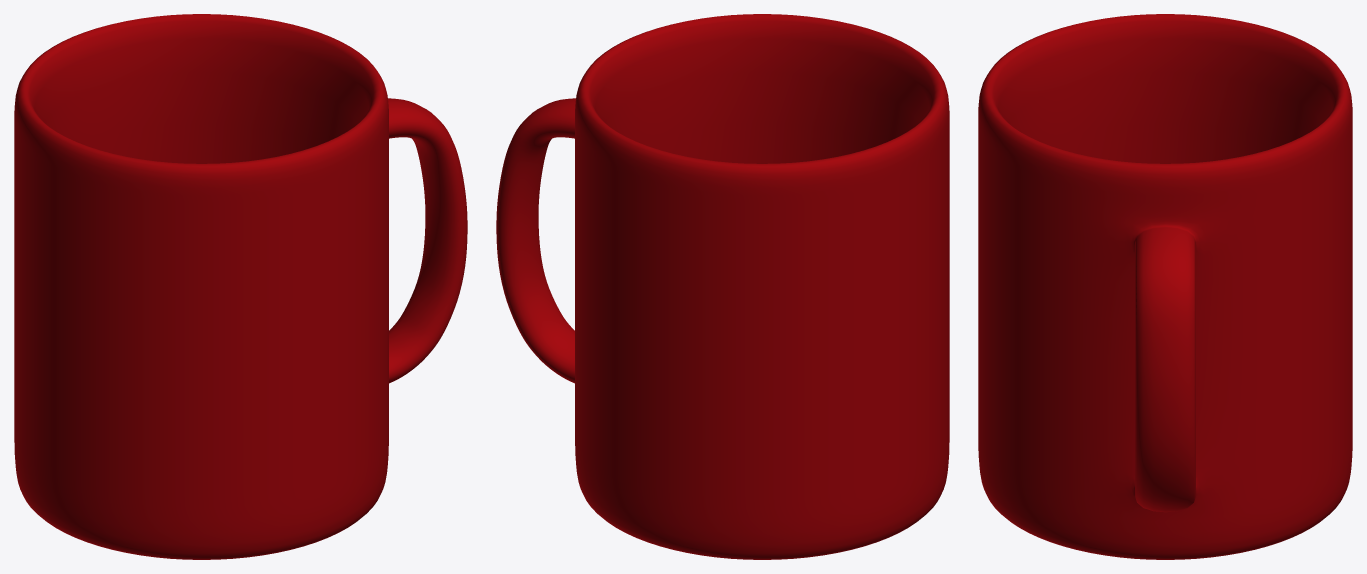
Rendered from Coffee.glb.
The picture shows the model from 3 angles, left to right: view 1: azimuth 30°, elevation 25°; view 2: azimuth 150°, elevation 25°; view 3: azimuth 270°, elevation 25°; orthographic projection.
Visible parts, largest first — view 1: Mug; view 2: Mug; view 3: Mug.
Boxes of the visible parts, <box> form: Mug: <box>14,14,467,559</box>; Mug: <box>496,14,949,559</box>; Mug: <box>978,14,1352,559</box>.
Bounding box in the file's own units: 0.1127 × 0.1016 × 0.0869.
